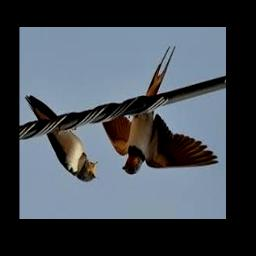Swallow: (101, 47, 218, 175), (23, 95, 98, 181)
